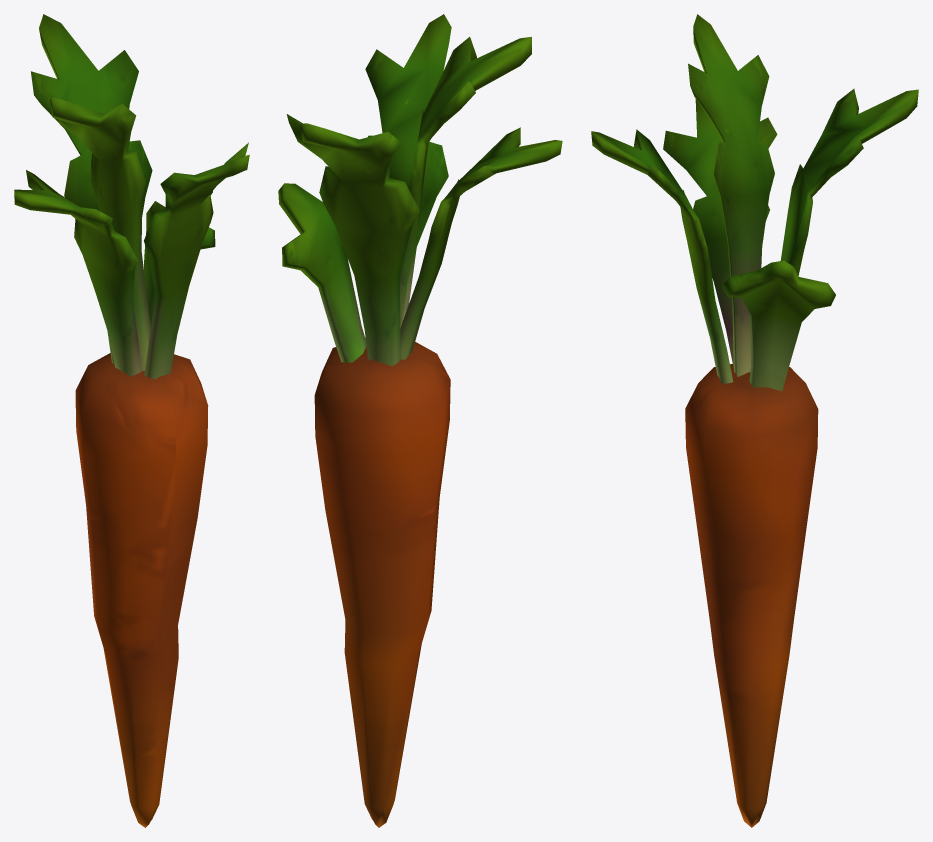
Rendered from Carrot.glb.
The picture shows the model from 3 angles, left to right: view 1: azimuth 30°, elevation 25°; view 2: azimuth 150°, elevation 25°; view 3: azimuth 270°, elevation 25°; orthographic projection. The views are drawn at different scales.
Visible parts, largest first — view 1: Carrot; view 2: Carrot; view 3: Carrot.
Part boxes in pixels (x1,y1,x2,y2): Carrot: (14, 14, 249, 827); Carrot: (278, 14, 562, 827); Carrot: (591, 14, 918, 827).
Bounding box in the file's own units: 0.1799 × 0.5658 × 0.2221.
Materials: 1 (1 with a texture image).
